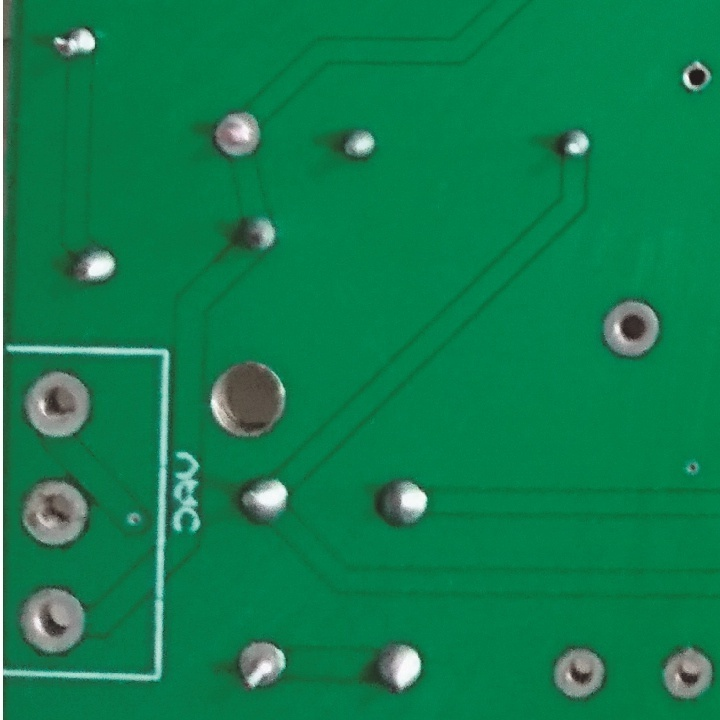F: (21, 365, 93, 442), (21, 477, 93, 552), (19, 586, 87, 655), (598, 298, 664, 360), (656, 644, 716, 704), (553, 644, 609, 703), (236, 635, 290, 693), (213, 107, 266, 161), (677, 58, 715, 95)
